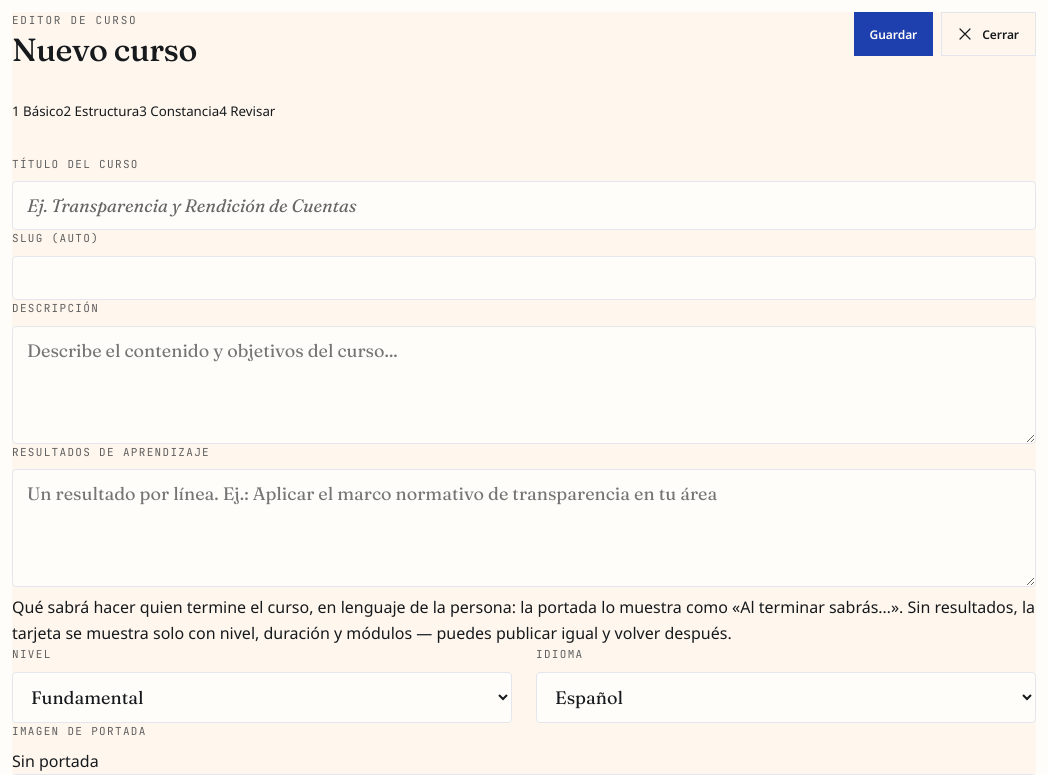
Scenario: AdminCourseEditor › exige sesión para publicar
Click the button with class "editor-step-btn" showing "4 Revisar": (247, 111) [219,102,275,120]
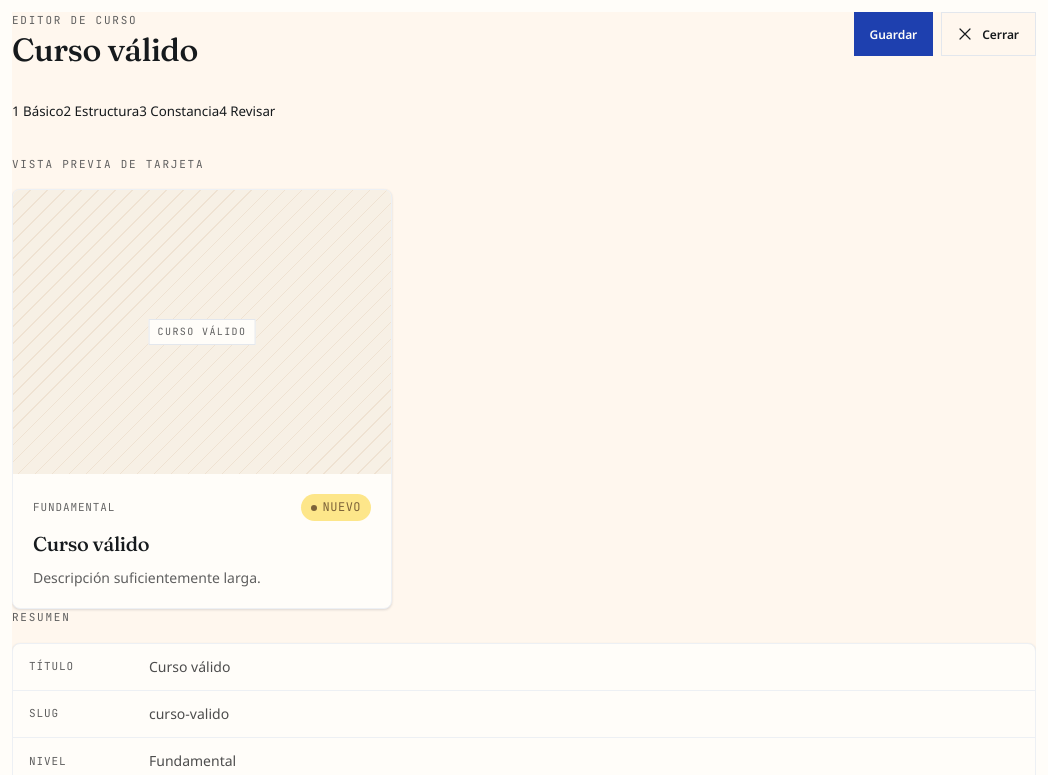
Click the button with test id "guardar": (893, 34) [854,12,933,56]
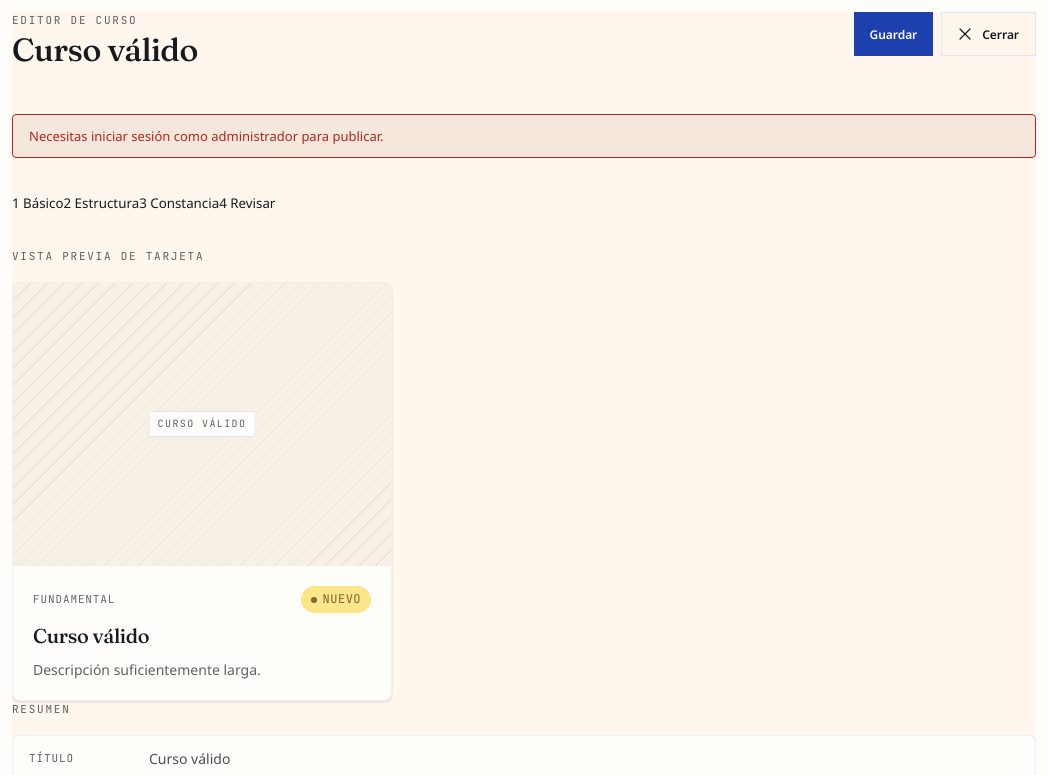
Now the text "Necesitas iniciar sesión como administrador para publicar." is shown, box [12,114,1036,158]
